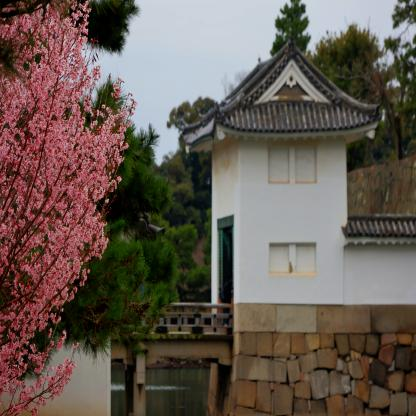Ume: (0, 0, 138, 416)
